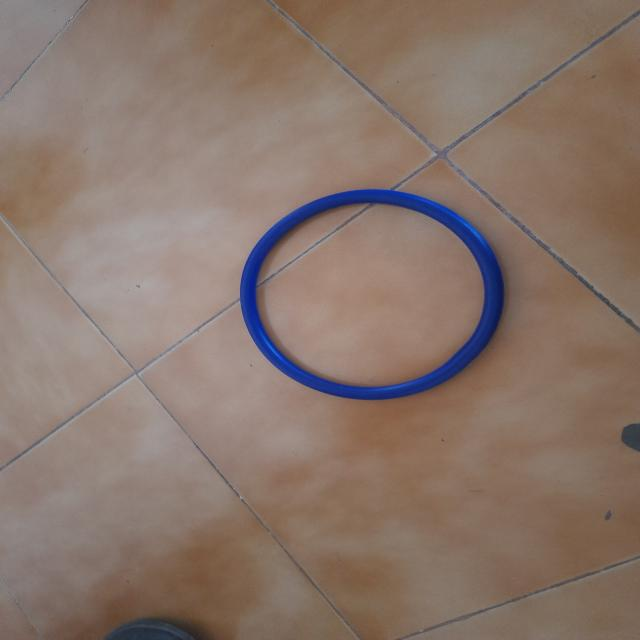daire: (241, 191, 503, 404)
